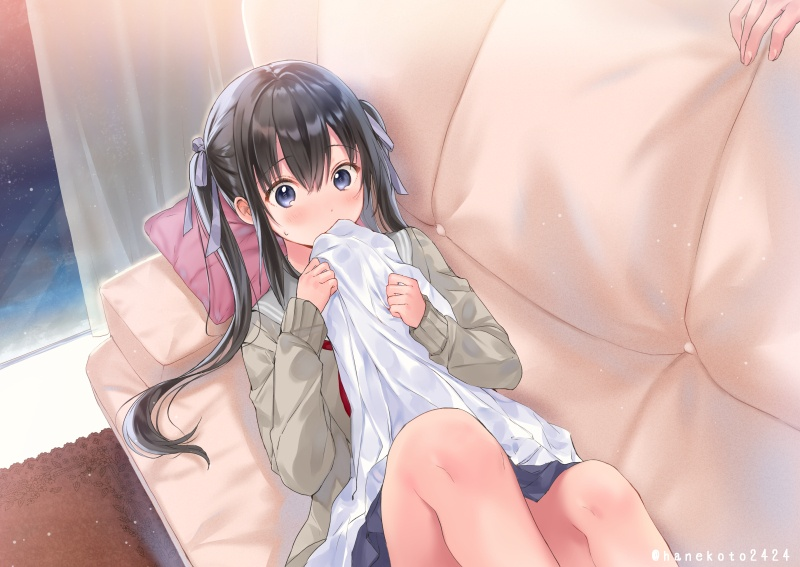纸片人正脸: (193, 57, 397, 249)
